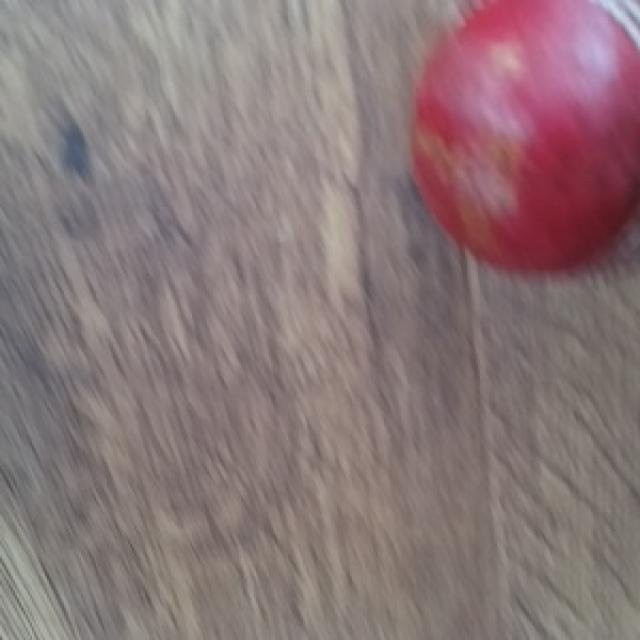ball: (410, 0, 640, 273)
